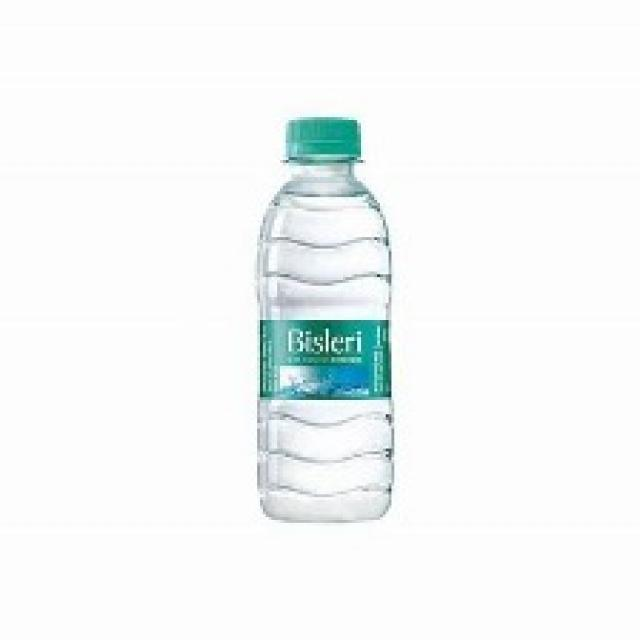plastic_bottle: (223, 99, 426, 549)
